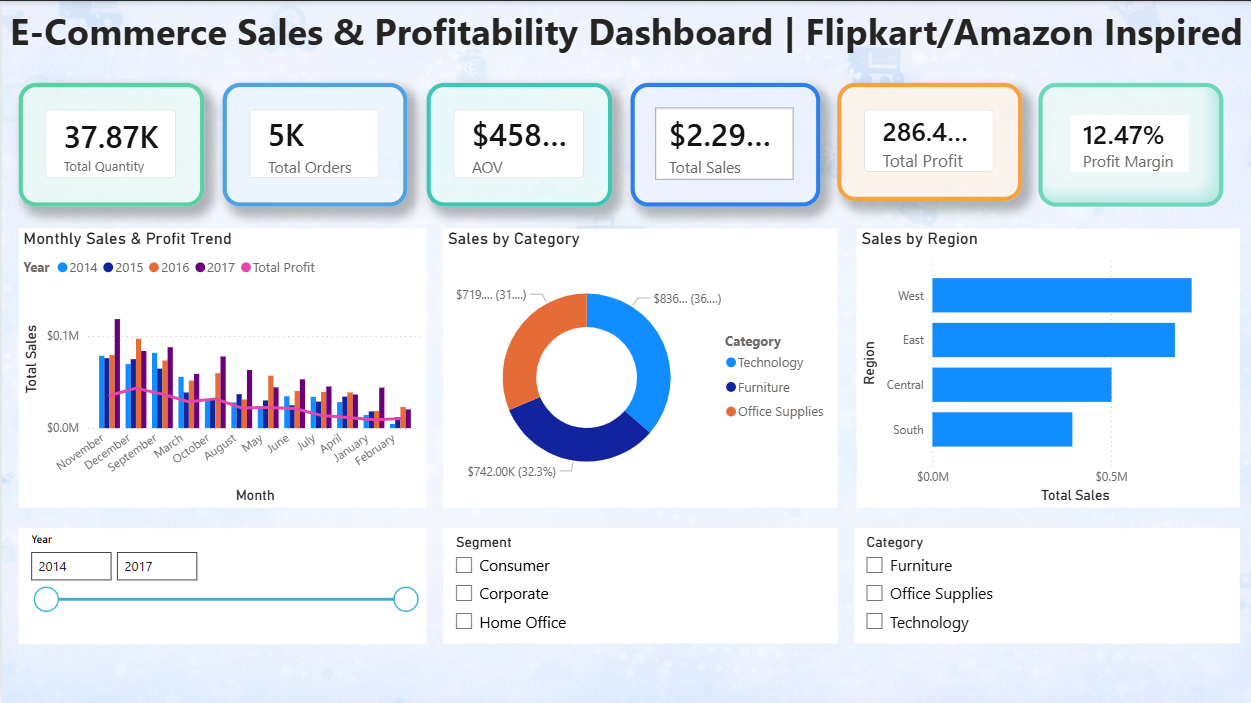

Layout of this report page (visuals, bound fields, positions):
{"tool":"powerbi","page":{"name":"Page 1","canvas":[1280,720],"ordinal":0},"visuals":[{"type":"cardVisual","title":"Total Sales","fields":{"Data":["Calendar.Total Sales"]},"box":[644.4,83.9,194.9,126.6],"z":0},{"type":"cardVisual","title":"Total Quantity","fields":{"Data":["Calendar.Total Quantity"]},"box":[17,83.9,190.6,126.6],"z":1000},{"type":"cardVisual","title":"Profit Margin","fields":{"Data":["Calendar.Profit Margin"]},"box":[1062.6,83.9,189.2,126.6],"z":2000},{"type":"cardVisual","title":"Total Orders","fields":{"Data":["Calendar.Total Orders"]},"box":[226.2,83.9,189.2,126.6],"z":3000},{"type":"cardVisual","title":"Total Profit","fields":{"Data":["Calendar.Total Profit"]},"box":[856.3,83.9,189.2,120.9],"z":4000},{"type":"cardVisual","title":"AOV","fields":{"Data":["Calendar.AOV"]},"box":[435.3,83.9,190.6,126.6],"z":5000},{"type":"lineClusteredColumnComboChart","title":"Monthly Sales & Profit Trend","fields":{"Category":["Calendar.Month"],"Y":["Calendar.Total Sales"],"Y2":["Calendar.Total Profit"],"Series":["Calendar.Year"]},"box":[17.1,233.3,418.2,285.9],"z":6000},{"type":"donutChart","title":"Sales by Category","fields":{"Category":["PB2.Category"],"Y":["Calendar.Total Sales"]},"box":[452.4,233.3,404,285.9],"z":7000},{"type":"barChart","title":" Sales by Region","fields":{"Category":["PB2.Region"],"Y":["Calendar.Total Sales"]},"box":[876.3,233.3,392.6,285.9],"z":8000},{"type":"slicer","fields":{"Values":["Calendar.Year"]},"box":[17.1,540.5,418.2,118.1],"z":9000},{"type":"slicer","fields":{"Values":["PB2.Segment"]},"box":[452.4,540.5,404,118.1],"z":10000},{"type":"slicer","fields":{"Values":["PB2.Category"]},"box":[873.4,540.5,395.5,118.1],"z":11000},{"type":"textbox","box":[0,0,1280.6,105.3],"z":12000}]}

Visuals, with their boxes in screenshot pixels (x1, y1, x2, y2), scaled from the page's 1280x720 canvas onto the 1251x703 screenshot:
"Total Sales" cardVisual: {"left": 630, "top": 82, "right": 820, "bottom": 206}
"Total Quantity" cardVisual: {"left": 17, "top": 82, "right": 203, "bottom": 206}
"Profit Margin" cardVisual: {"left": 1039, "top": 82, "right": 1223, "bottom": 206}
"Total Orders" cardVisual: {"left": 221, "top": 82, "right": 406, "bottom": 206}
"Total Profit" cardVisual: {"left": 837, "top": 82, "right": 1022, "bottom": 200}
"AOV" cardVisual: {"left": 425, "top": 82, "right": 612, "bottom": 206}
"Monthly Sales & Profit Trend" lineClusteredColumnComboChart: {"left": 17, "top": 228, "right": 425, "bottom": 507}
"Sales by Category" donutChart: {"left": 442, "top": 228, "right": 837, "bottom": 507}
" Sales by Region" barChart: {"left": 856, "top": 228, "right": 1240, "bottom": 507}
slicer - Calendar.Year: {"left": 17, "top": 528, "right": 425, "bottom": 643}
slicer - PB2.Segment: {"left": 442, "top": 528, "right": 837, "bottom": 643}
slicer - PB2.Category: {"left": 854, "top": 528, "right": 1240, "bottom": 643}
textbox: {"left": 0, "top": 0, "right": 1250, "bottom": 103}
